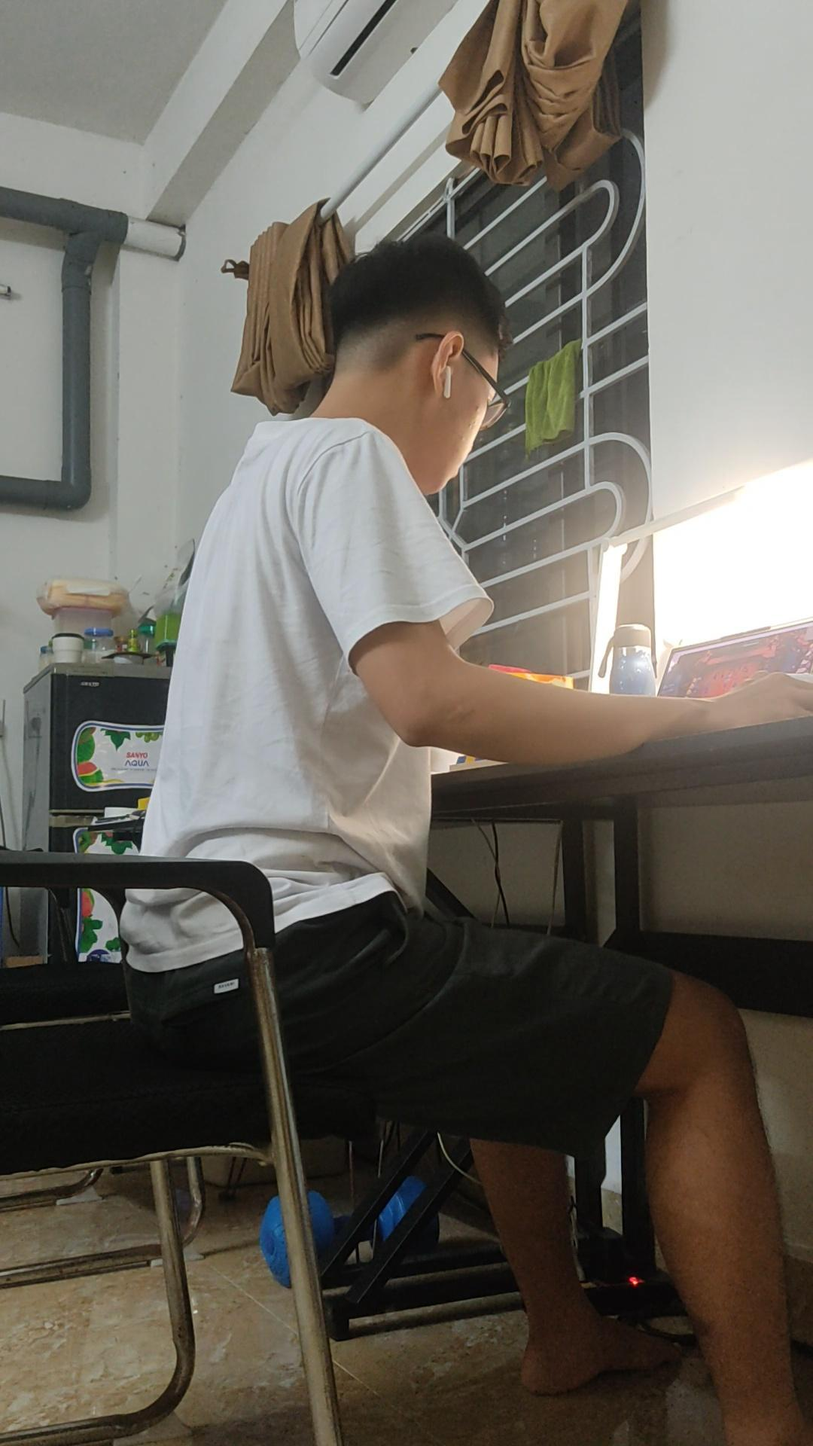GoodPosture: (142, 236, 812, 1445)
